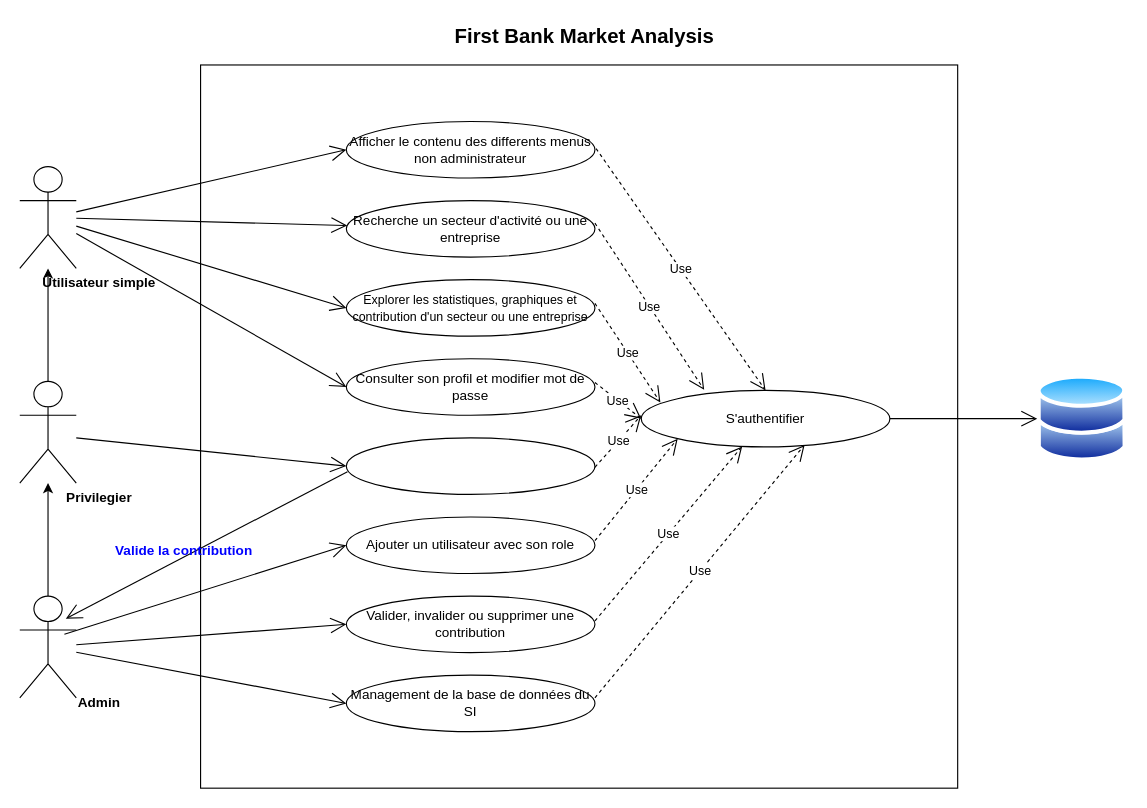
This 1147x808 diagram has some shape labels left out. Here are the shapes that lost their labels. From the top down, the centre of each, then its label:
At point 1082,418: "RDB".
At point 470,465: "Soumettre des contributions".
